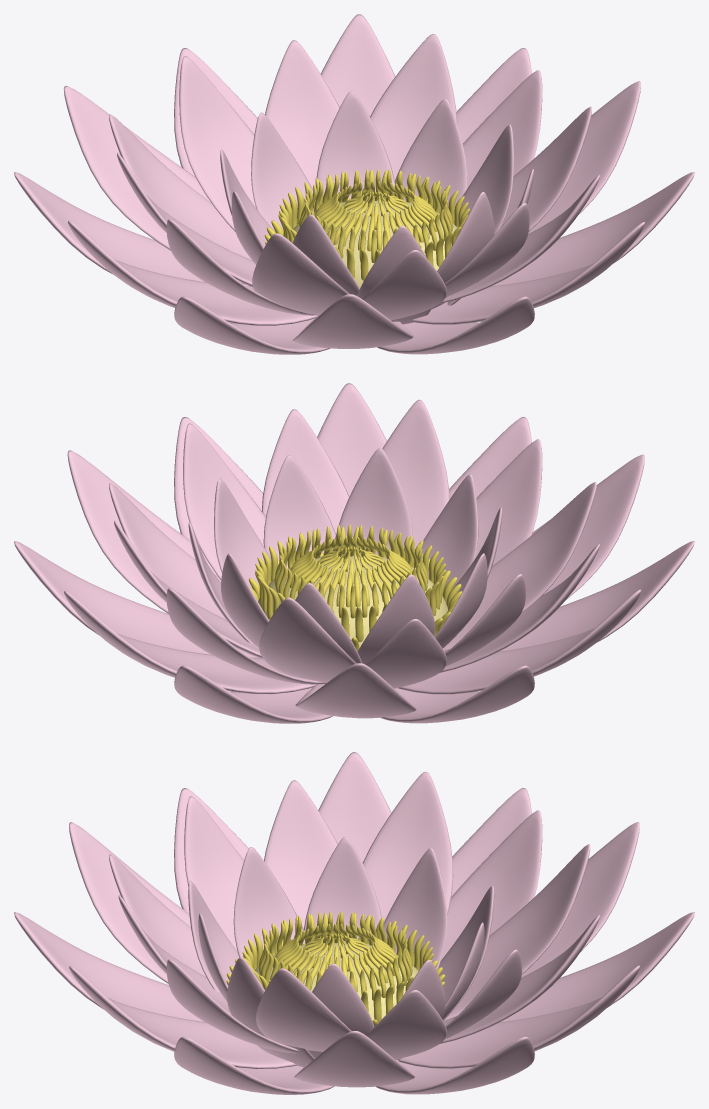
The model's file is flornenufar.fbx.
3 views of the same model, one above another, from view 1: azimuth 30°, elevation 25°; view 2: azimuth 150°, elevation 25°; view 3: azimuth 270°, elevation 25° (orthographic).
Visible parts, largest first — view 1: Box070; view 2: Box070; view 3: Box070.
Part boxes in pixels (left/top/right/bottom): Box070: left=14, top=14, right=694, bottom=354; Box070: left=14, top=383, right=694, bottom=723; Box070: left=14, top=752, right=694, bottom=1094.
Bounding box in the file's own units: 31.34 × 10.11 × 32.34.
